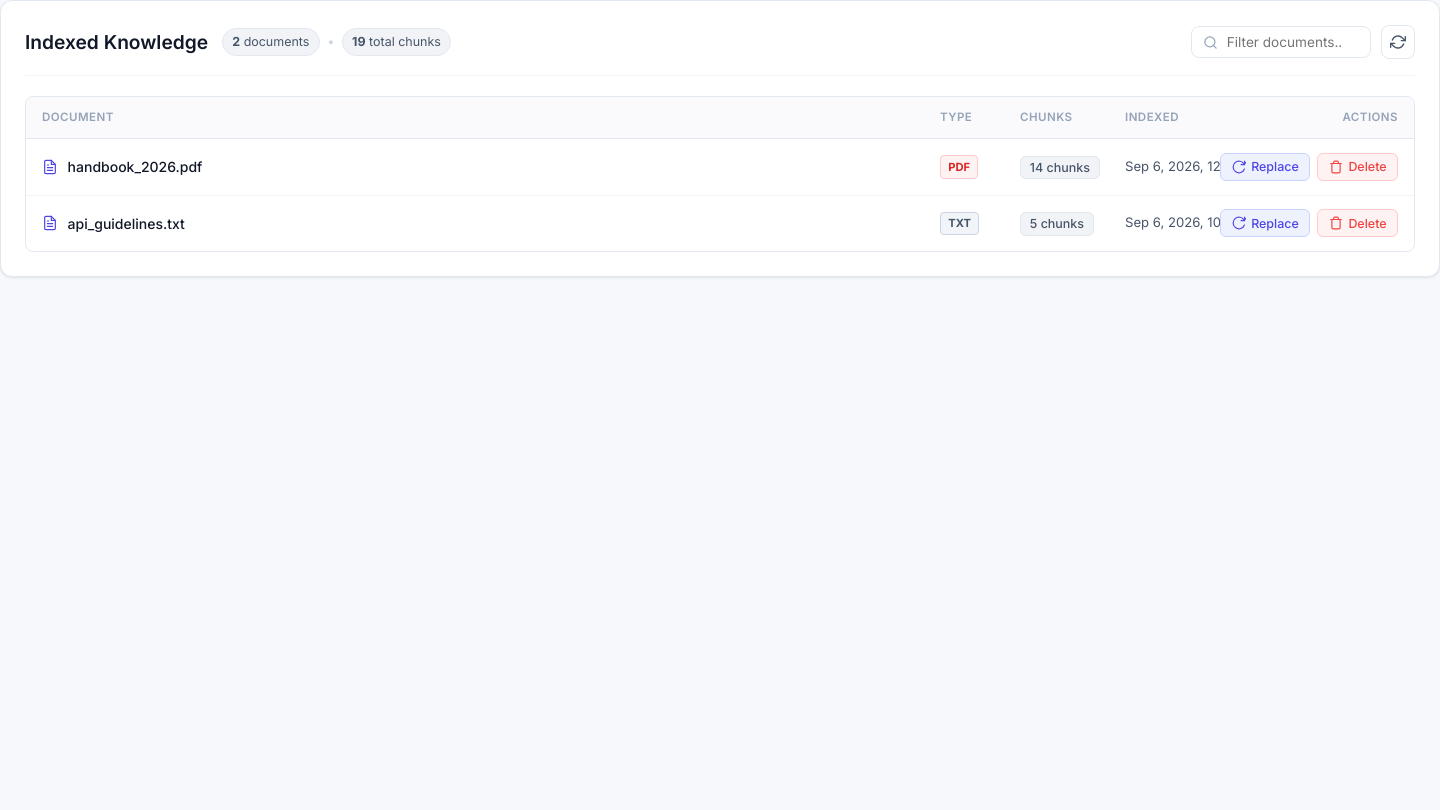
Scenario: Document Management CRUD Component & Service Tests › 6. Clicking delete button opens DeleteConfirmModal with document details
Click the button with test id "delete-btn-handbook_2026.pdf" at (1358,167), box [1317,153,1398,181]
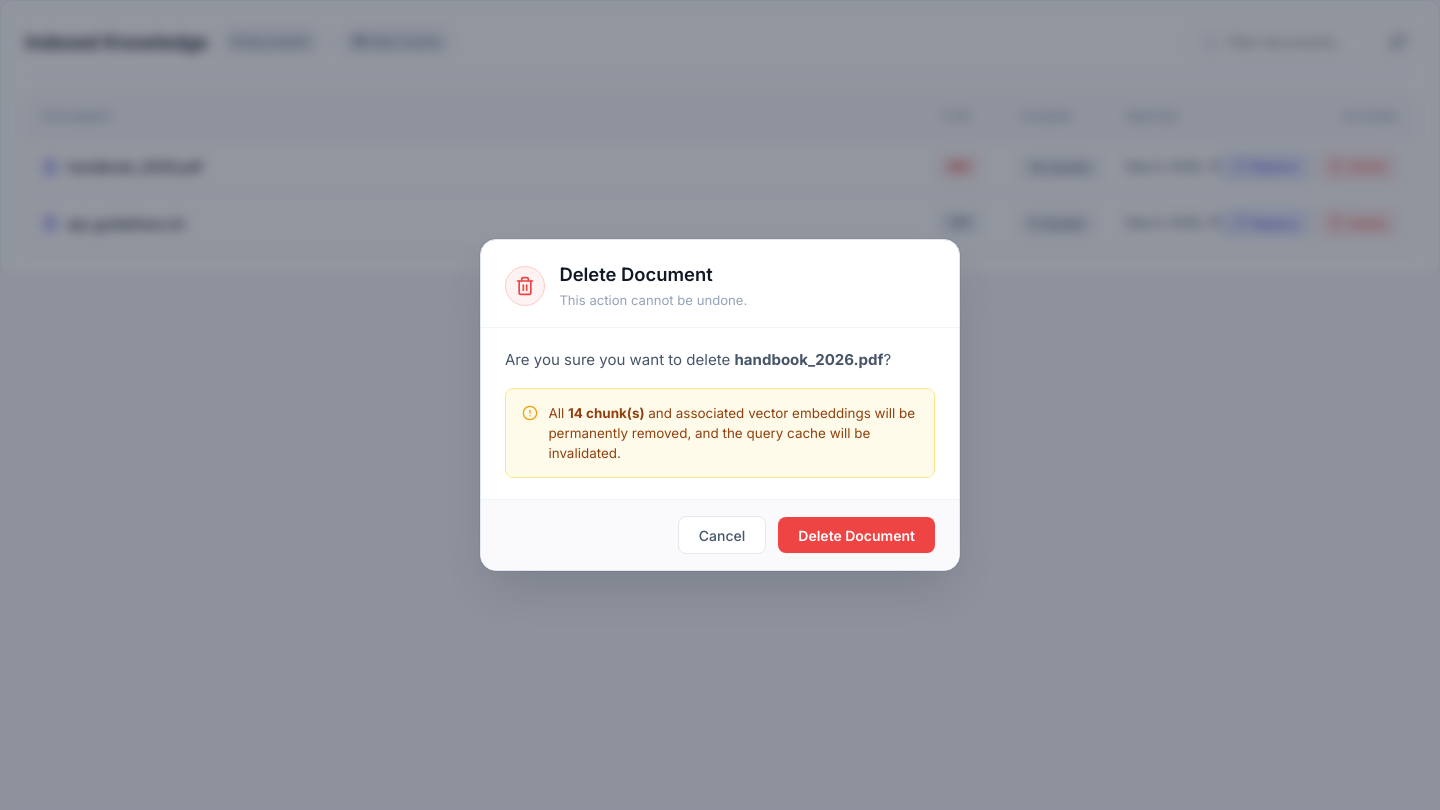
Expected: the dialog is shown
Expected: the heading "Delete Document" is shown, [559,263,713,285]
Expected: the button with test id "confirm-delete-btn" is shown, [778,517,935,554]
